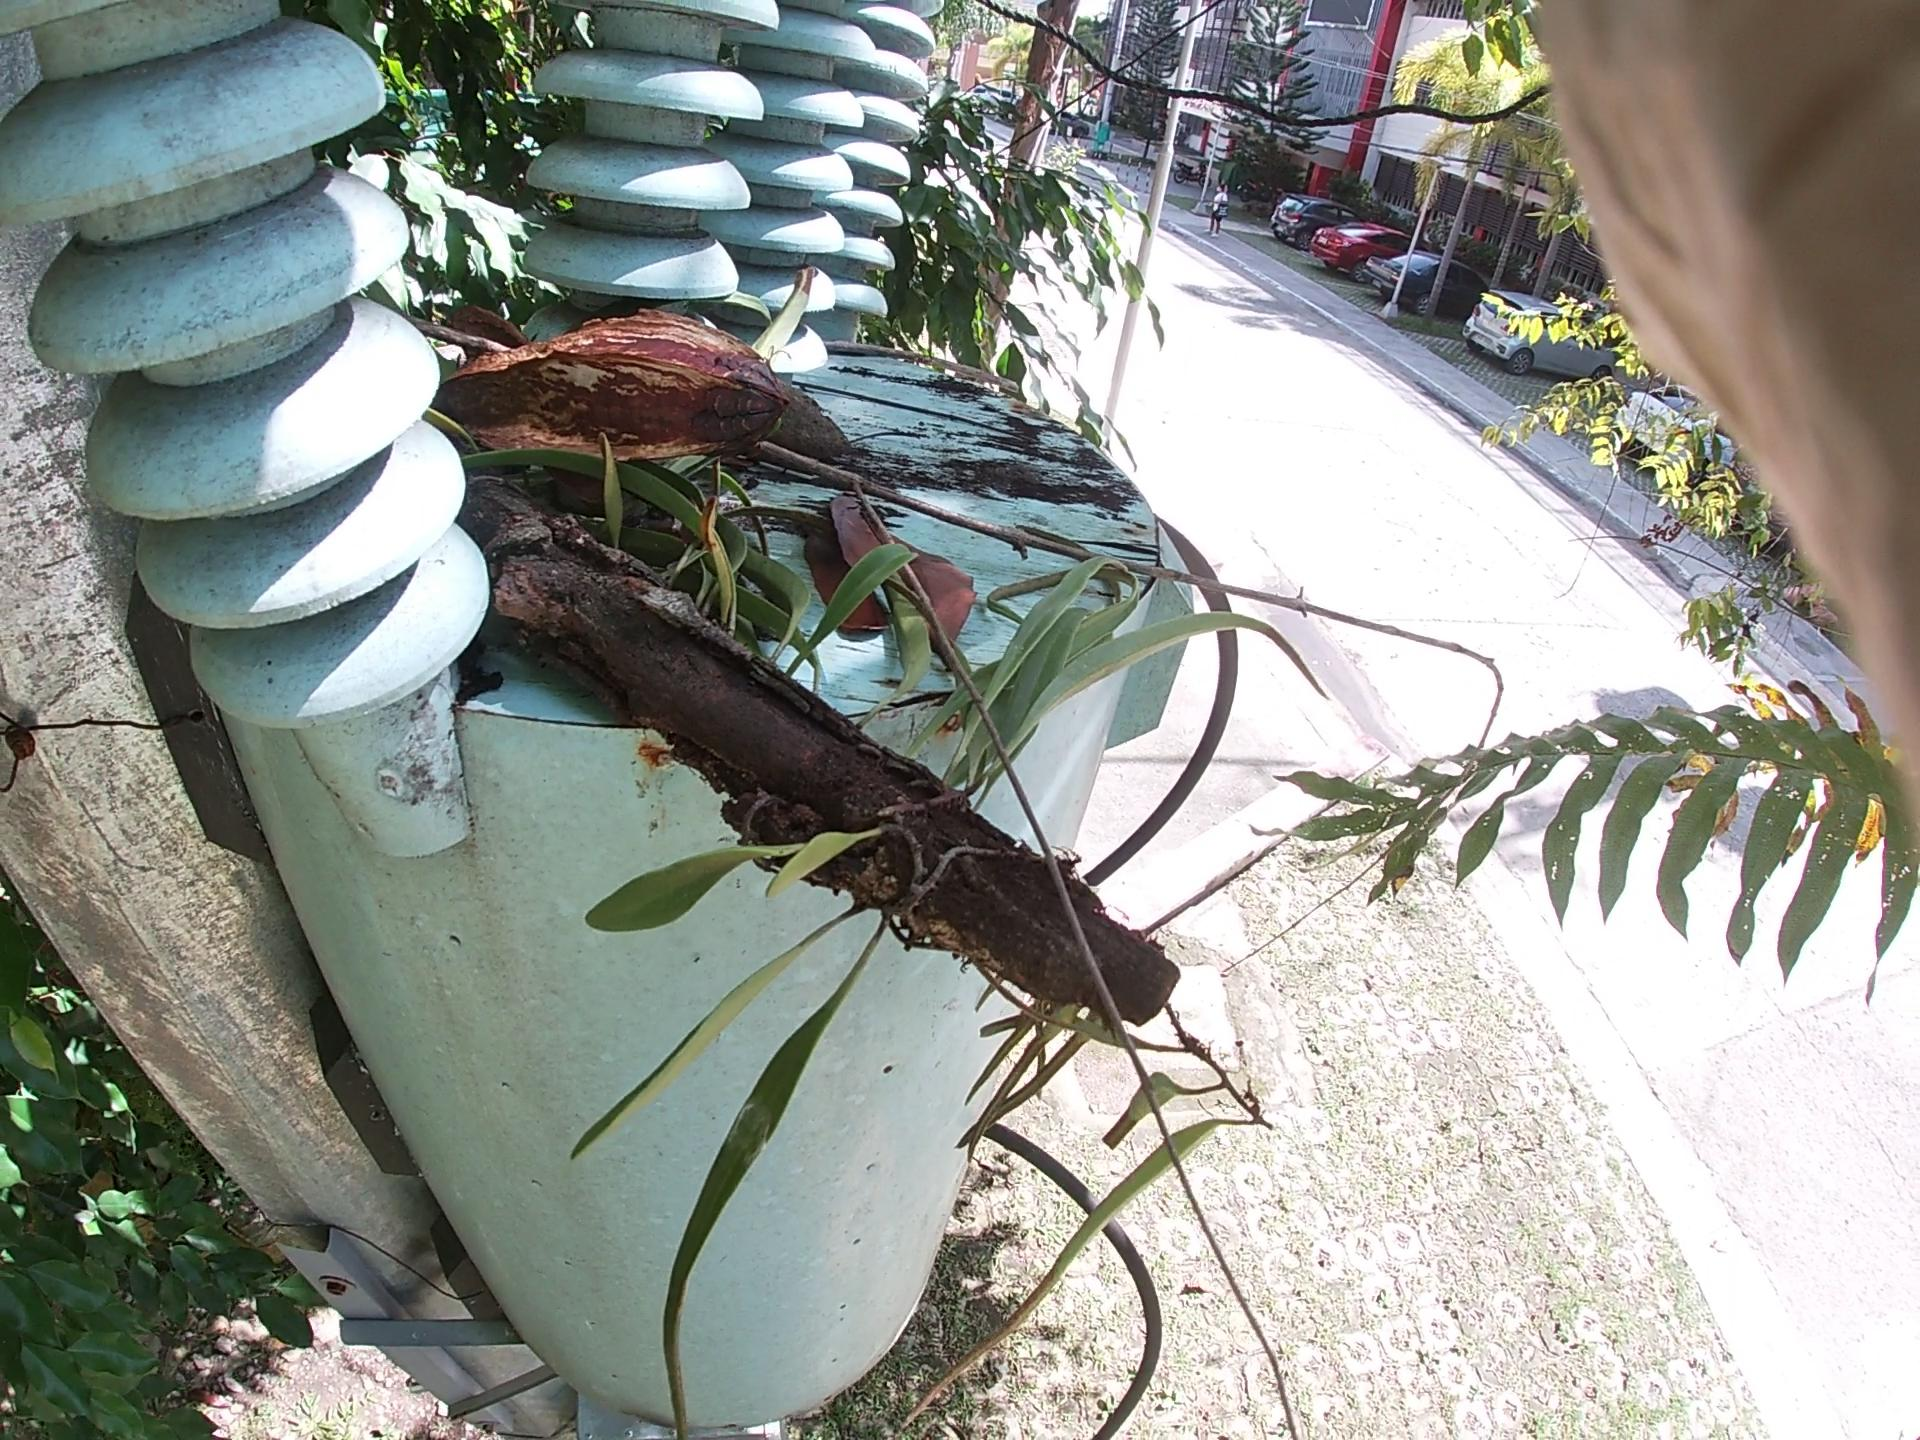branch with leaves: (485, 451, 1302, 1035)
leaf: (825, 455, 977, 678)
mahogany fruit: (392, 265, 794, 532)
tree branch: (777, 293, 1072, 427)
